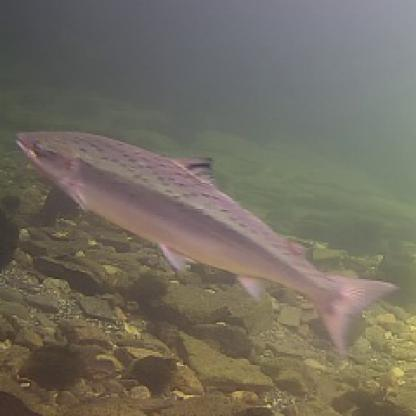salmon: (11, 125, 402, 355)
